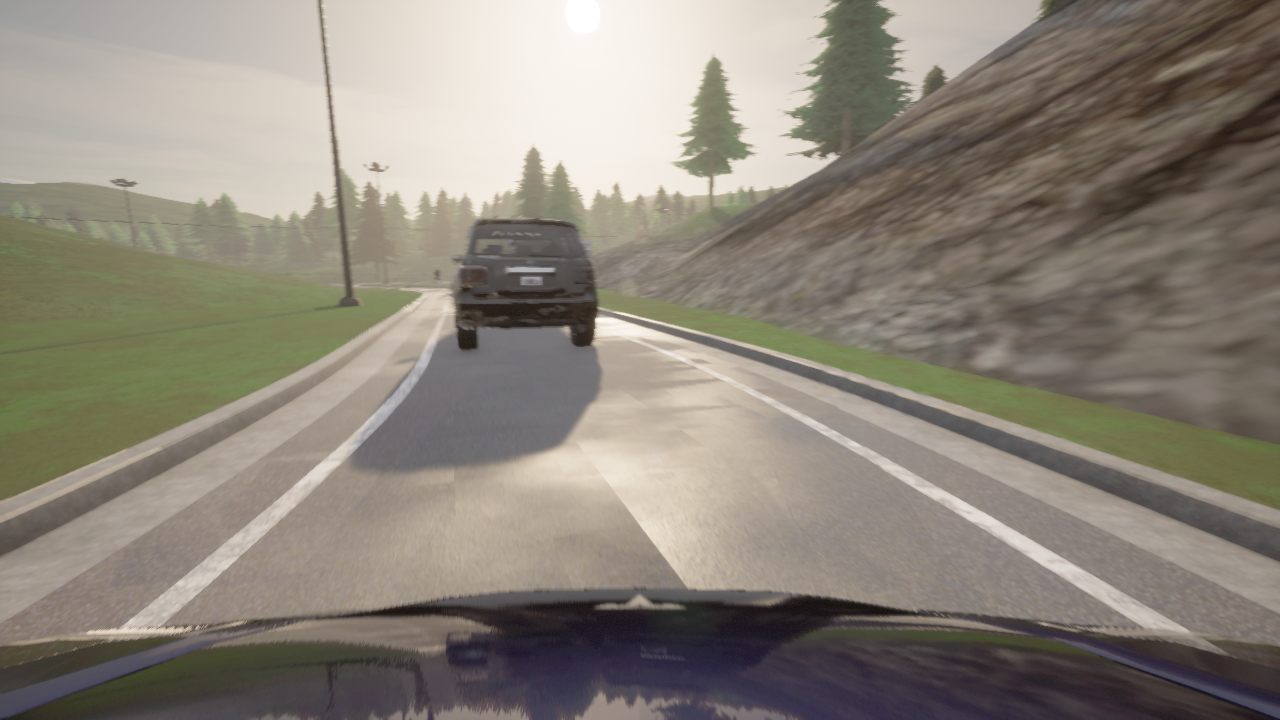cyclist: (0, 588, 1279, 719), (451, 217, 597, 349), (433, 279, 441, 289), (450, 275, 454, 293)
